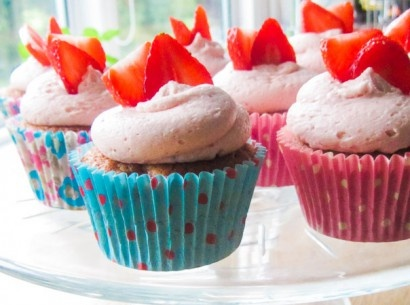background: (6, 0, 262, 84)
